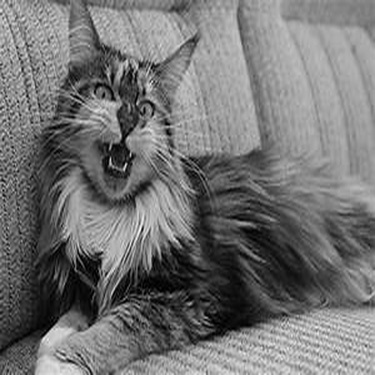cat: (38, 5, 371, 372)
